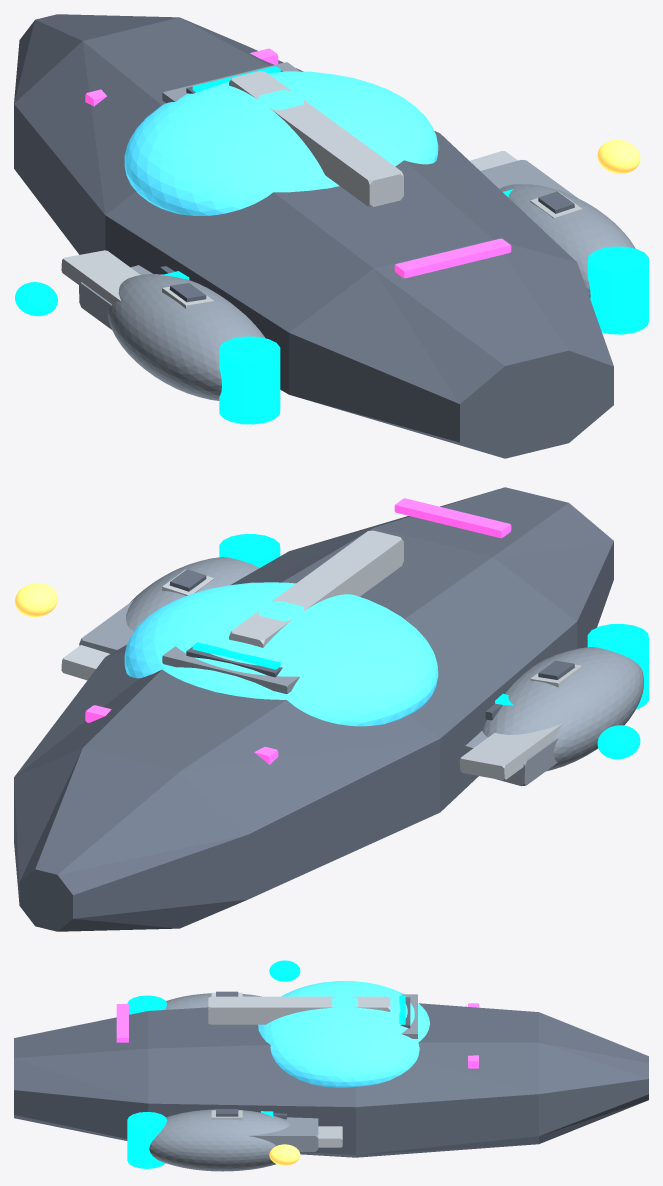
Rendered from sky_courier.glb.
3 renders of one model, top to bottom at view 1: azimuth 30°, elevation 25°; view 2: azimuth 150°, elevation 25°; view 3: azimuth 270°, elevation 25°, orthographic. The views are drawn at different scales.
Parts seen in each view (by area): view 1: Ceramic_titanium, Ion_glass, Brushed_alloy, Cyan_lightguide, Edge_titanium, Magenta_lightguide, Amber_signal; view 2: Ceramic_titanium, Ion_glass, Brushed_alloy, Edge_titanium, Cyan_lightguide, Magenta_lightguide, Amber_signal; view 3: Ceramic_titanium, Ion_glass, Brushed_alloy, Edge_titanium, Cyan_lightguide, Magenta_lightguide, Amber_signal.
Boxes of the visible parts, x1,y1,x2,y2 form: Ceramic_titanium: [14, 14, 613, 458]; Ion_glass: [124, 71, 438, 215]; Brushed_alloy: [79, 62, 635, 400]; Cyan_lightguide: [15, 66, 648, 424]; Edge_titanium: [61, 71, 582, 308]; Magenta_lightguide: [85, 48, 511, 278]; Amber_signal: [597, 140, 640, 173]; Ceramic_titanium: [14, 487, 613, 931]; Ion_glass: [124, 582, 438, 726]; Brushed_alloy: [79, 557, 643, 786]; Edge_titanium: [61, 530, 582, 780]; Cyan_lightguide: [192, 534, 648, 759]; Magenta_lightguide: [85, 498, 511, 764]; Amber_signal: [15, 583, 57, 617]; Ceramic_titanium: [14, 991, 648, 1157]; Ion_glass: [258, 981, 429, 1087]; Brushed_alloy: [149, 993, 417, 1171]; Edge_titanium: [208, 992, 390, 1147]; Cyan_lightguide: [127, 960, 405, 1168]; Magenta_lightguide: [116, 1003, 478, 1068]; Amber_signal: [269, 1144, 300, 1165].
Size of the model in its own units: 2.08 by 0.6664 by 2.86.
7 materials, 7 textured.
